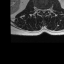CCS_stenosis: (43, 7, 44, 15)
LFS_stenosis: (46, 6, 49, 12)
LLS_normal: (44, 7, 46, 13)
RFS_stenosis: (38, 6, 41, 12)
RLS_stenosis: (40, 7, 43, 13)
